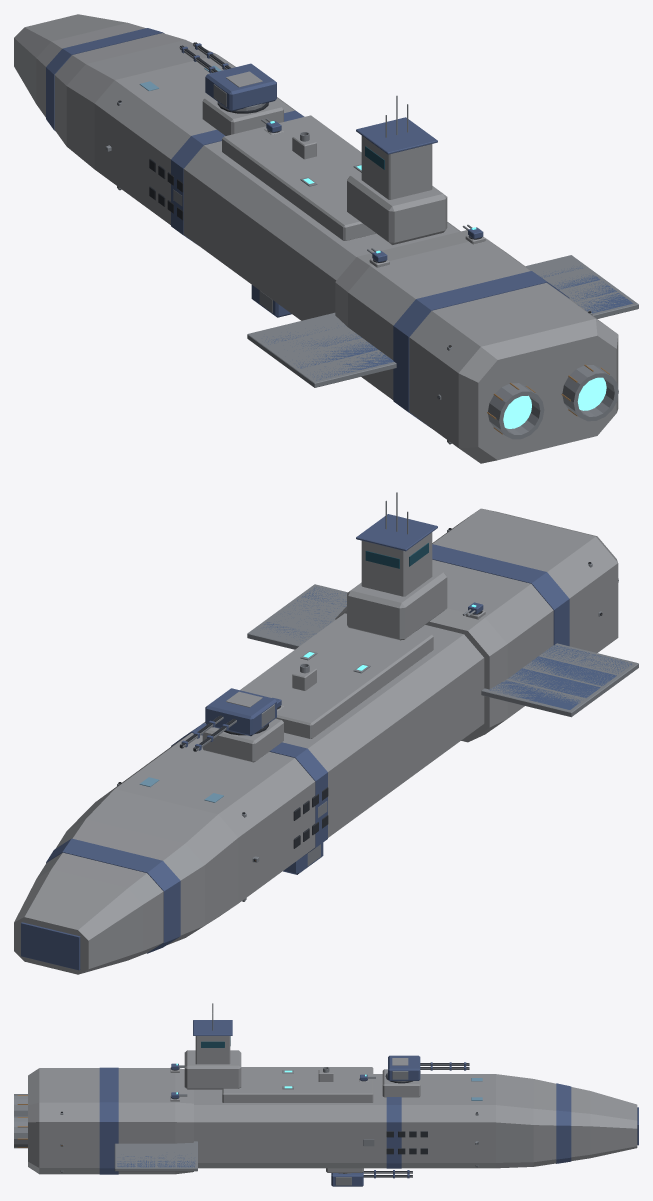
File: earth_gun_cruiser.glb
3 renders of one model, top to bottom at view 1: azimuth 30°, elevation 25°; view 2: azimuth 150°, elevation 25°; view 3: azimuth 270°, elevation 25°, orthographic. The views are drawn at different scales.
Visible parts, largest first — view 1: FleetHull, mesh_turret_gun_1; view 2: FleetHull, mesh_turret_gun_1; view 3: FleetHull, mesh_turret_gun_1, mesh_turret_gun_2, mesh_recoil_gun_1, mesh_recoil_gun_2.
Boxes of the visible parts, x1,y1,x2,y2 form: FleetHull: [14, 14, 638, 463]; mesh_turret_gun_1: [205, 63, 276, 111]; FleetHull: [14, 492, 638, 974]; mesh_turret_gun_1: [205, 688, 276, 736]; FleetHull: [14, 1003, 638, 1174]; mesh_turret_gun_1: [387, 1055, 420, 1081]; mesh_turret_gun_2: [331, 1172, 363, 1186]; mesh_recoil_gun_1: [420, 1062, 469, 1070]; mesh_recoil_gun_2: [363, 1170, 412, 1178].
Size of the model in its own units: 122 by 104 by 331.
